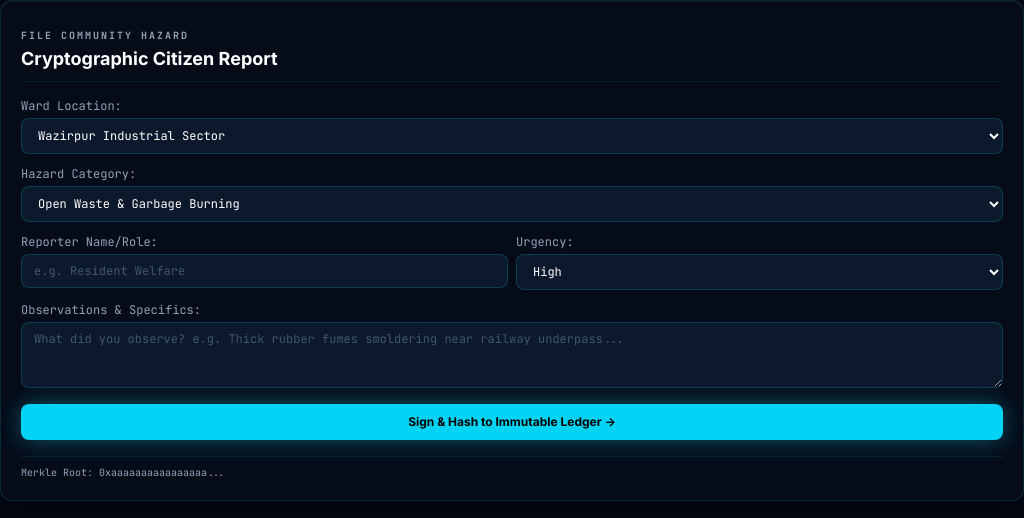
Test case: ReportForm › submits a complete report and resets the form
Select "Anand Vihar Transit Terminal" in the dropdown named "Select ward location" at point(512, 136), box [21,118,1003,154]
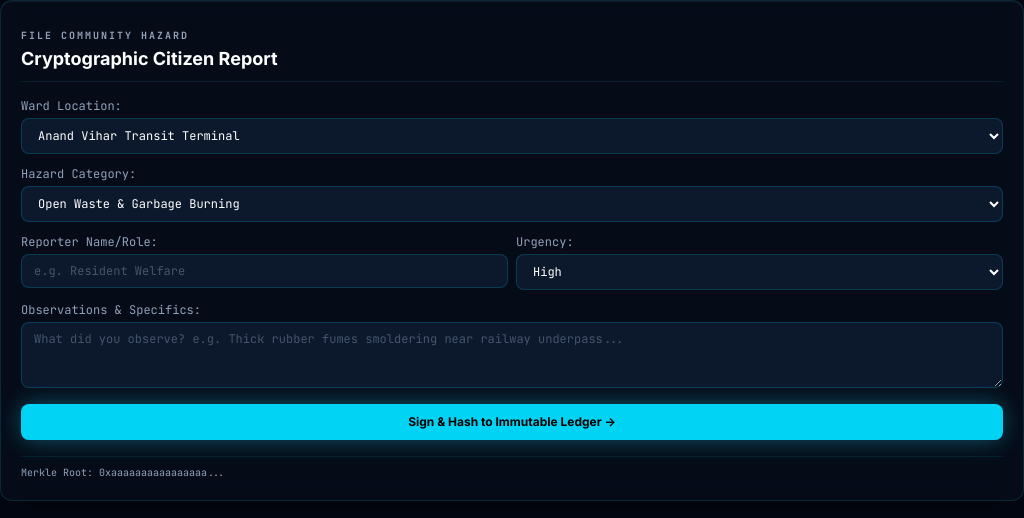
Select "Noxious Chemical / Acidic Odor" in the dropdown named "Select hazard category" at point(512, 204), box [21,186,1003,222]
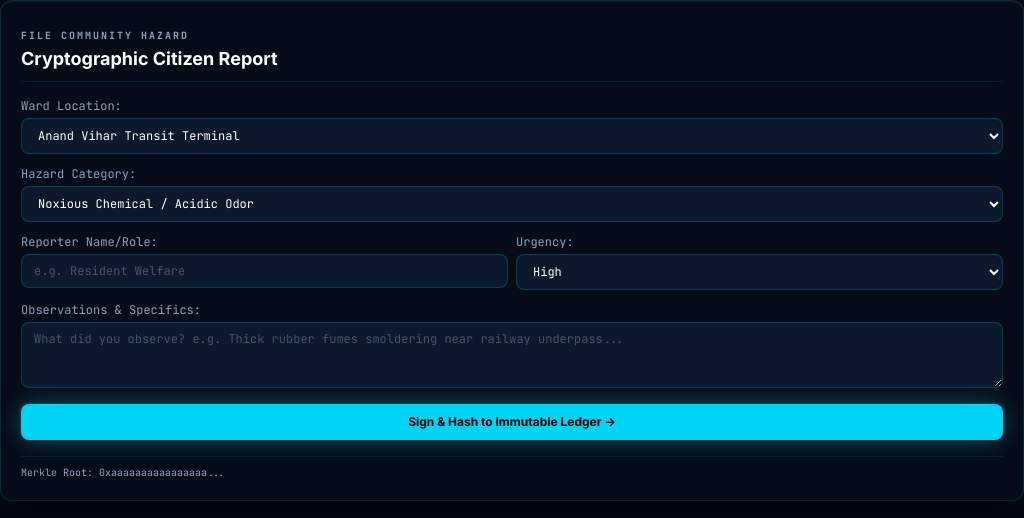
Type "RWA Secretary" into the field labelled "Reporter Name/Role:" at point(264, 271), box [21,254,508,288]
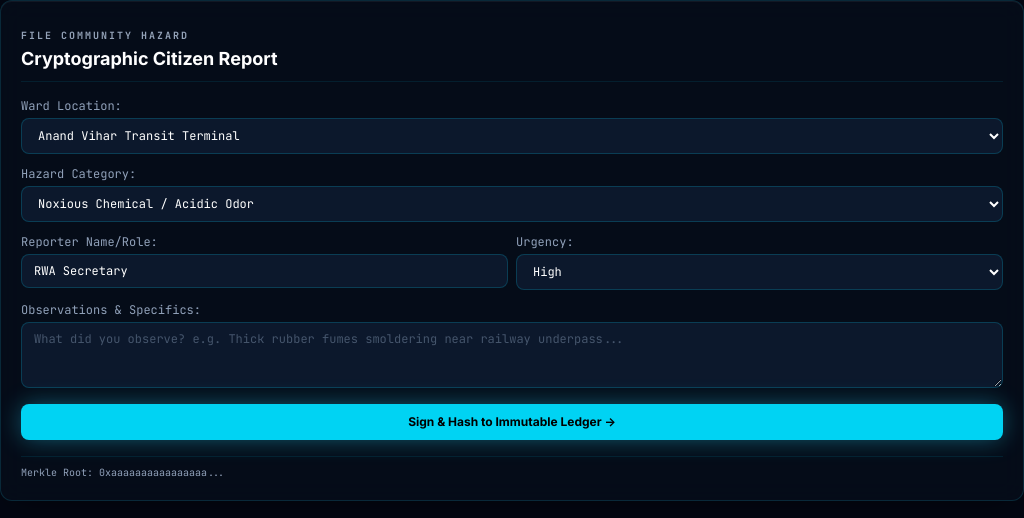
Select "Critical" in the dropdown named "Select report urgency" at point(760, 272), box [516,254,1003,290]
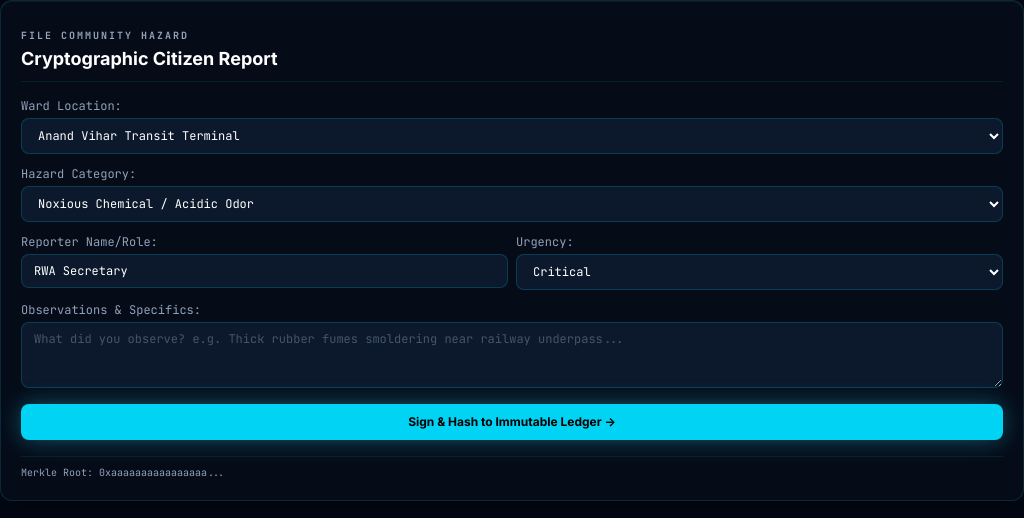
Replace the text in the text box labelled "Observations & Specifics:" with "Thick acid fumes near the underpass" at point(512, 355), box [21,322,1003,388]
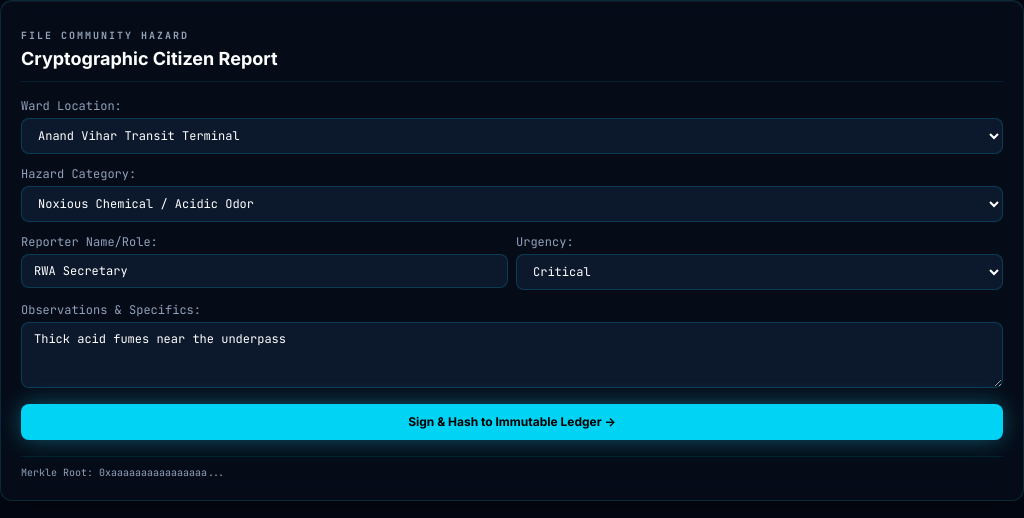
Click the button "Sign & Hash to Immutable Ledger →" at point(512, 422), box [21,404,1003,440]
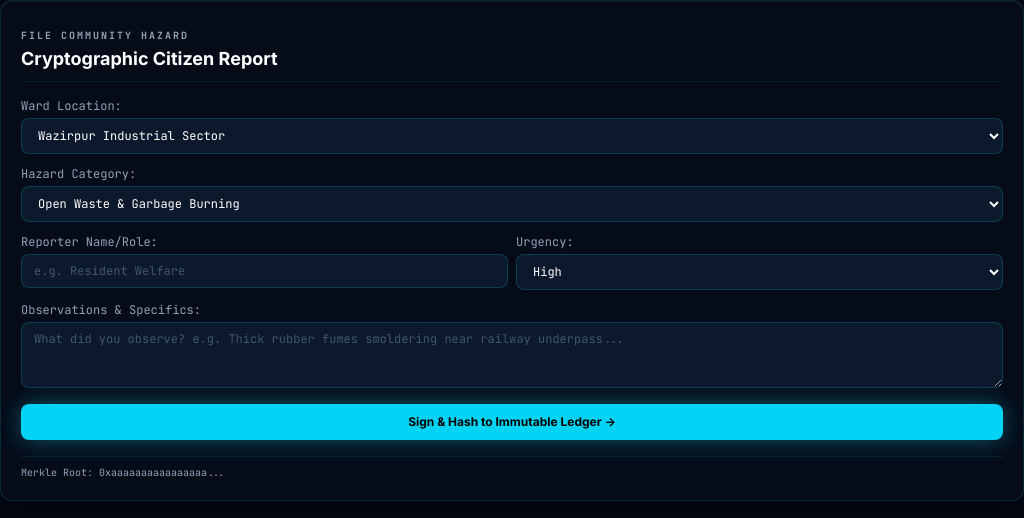
Now the field labelled "Reporter Name/Role:" is empty, box [21,254,508,288]
Now the text box labelled "Observations & Specifics:" is empty, box [21,322,1003,388]
